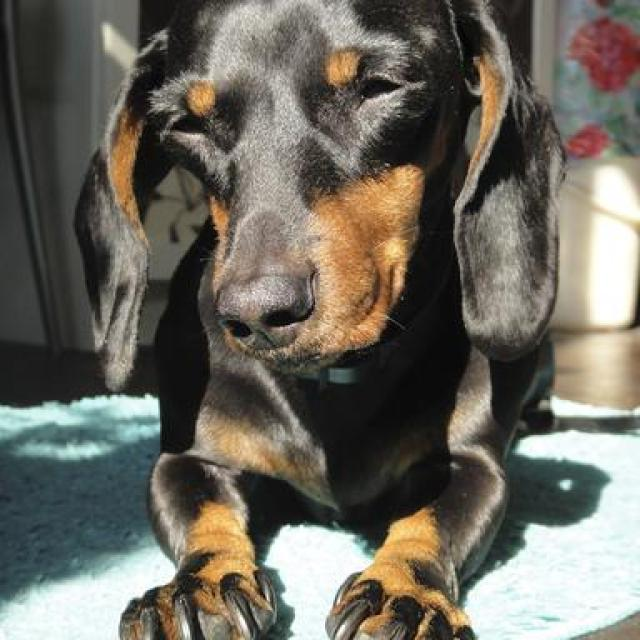relax: (68, 6, 639, 640)
